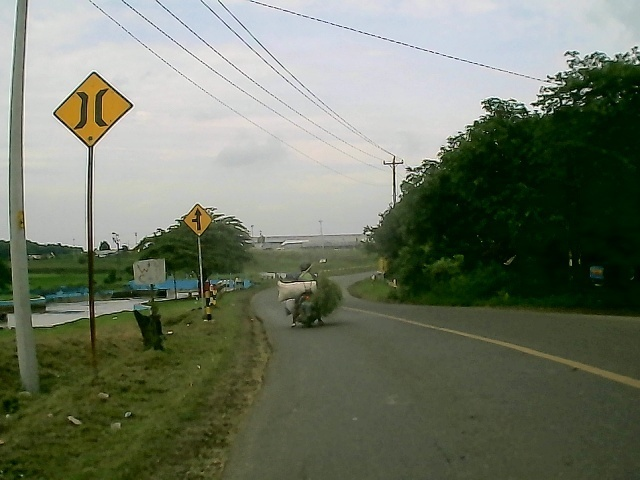Jembatan: (53, 70, 137, 148)
Simpang kiri dengan prioritas: (181, 202, 213, 238)
